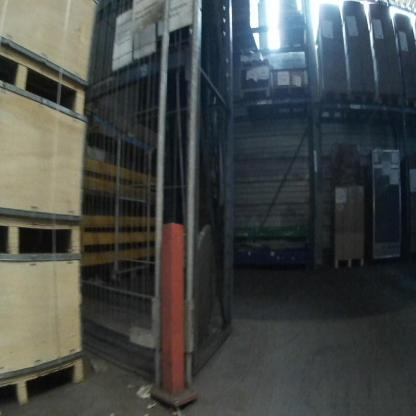pallet: (0, 36, 88, 124), (0, 348, 88, 407), (0, 210, 81, 266), (271, 86, 308, 101), (334, 254, 363, 270), (320, 90, 351, 104), (350, 94, 377, 105), (377, 96, 404, 107), (405, 98, 416, 108)
